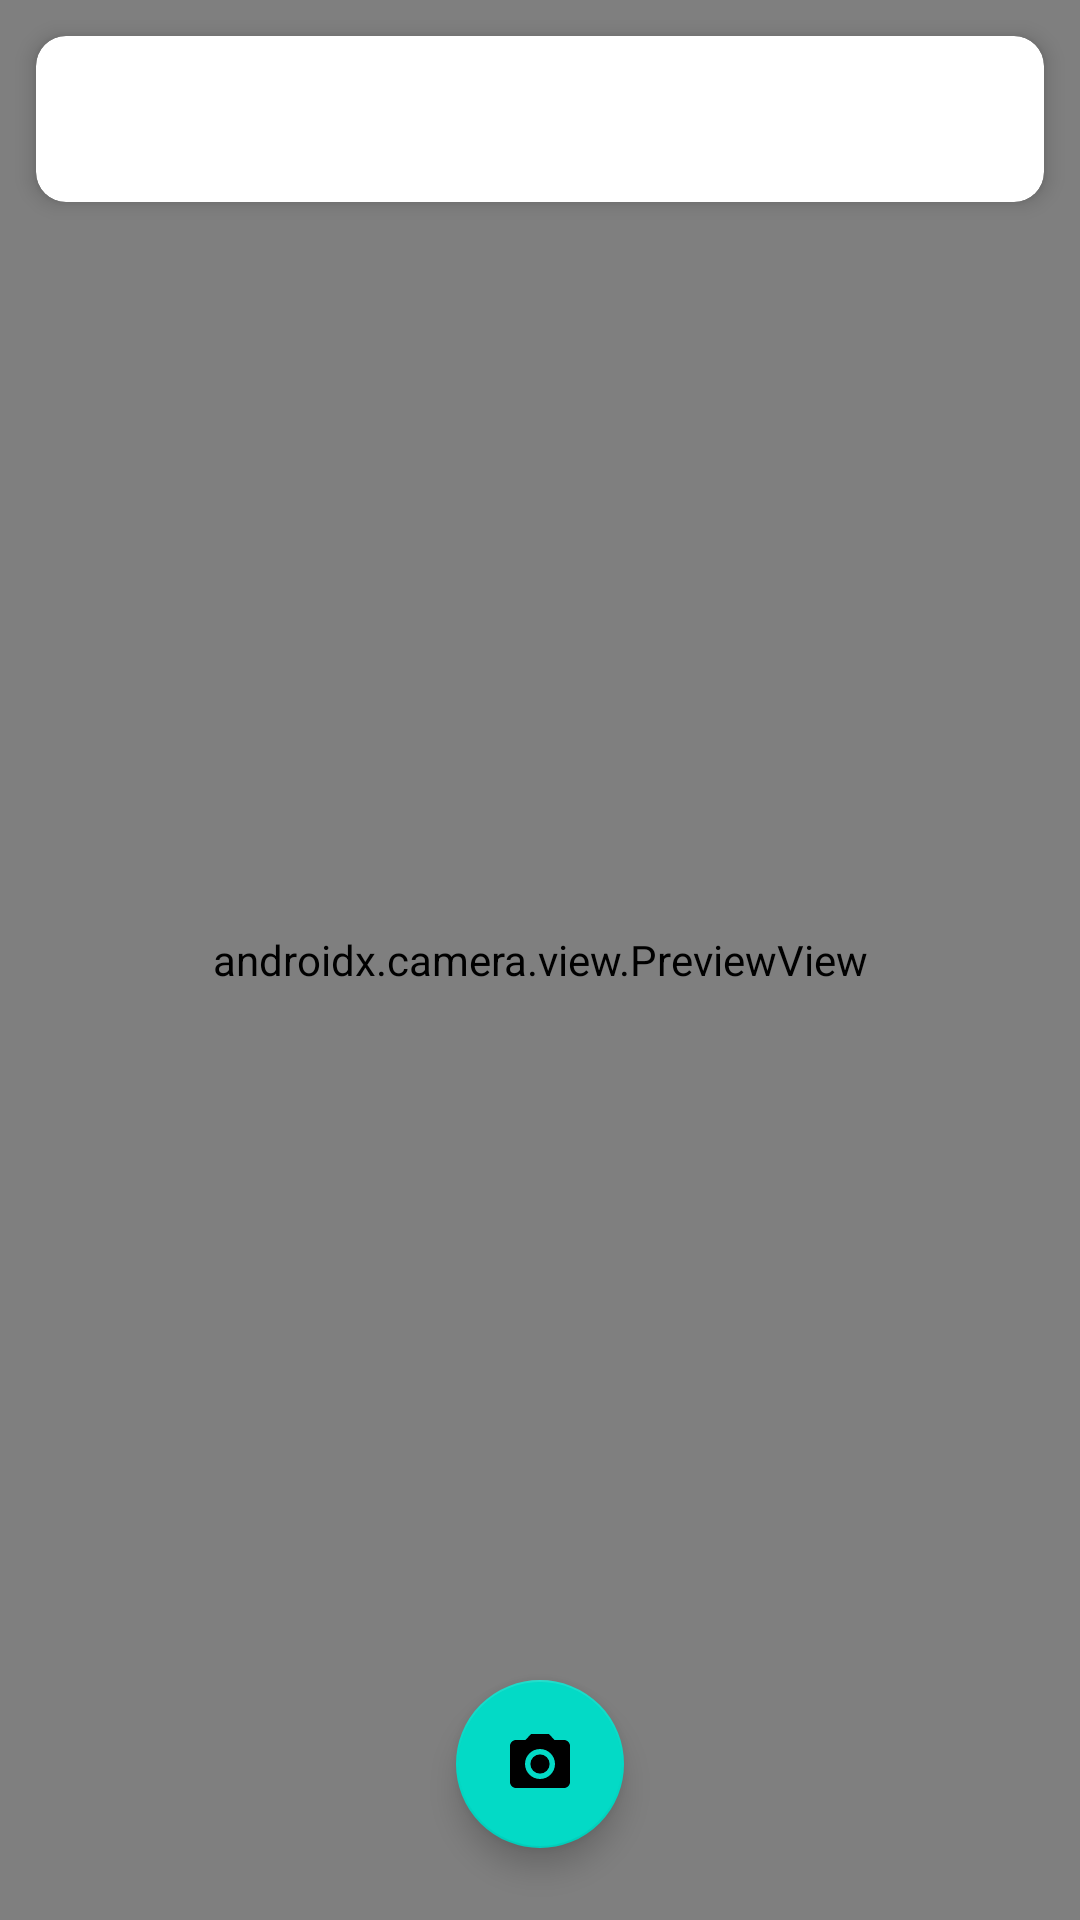

Where to tap for icons on this 1080px×1920px app screen, as [x,y]:
Scatta foto: [540,1764]
